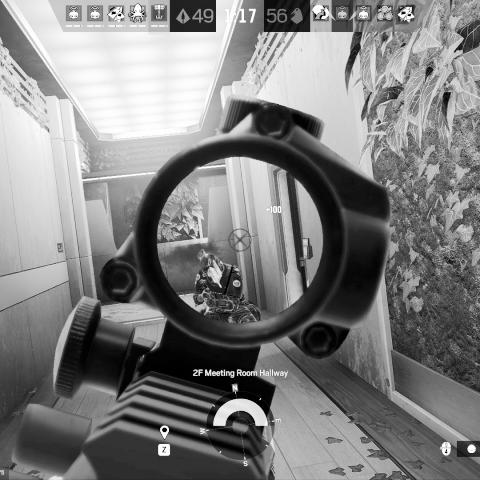Character: (193, 248, 262, 326)
Head: (199, 252, 225, 283)
